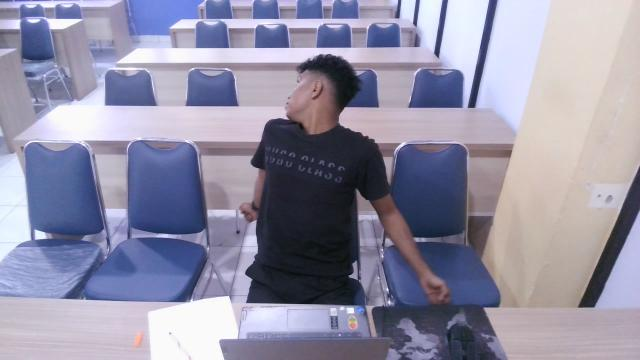Turning_Back: (234, 37, 386, 256)
